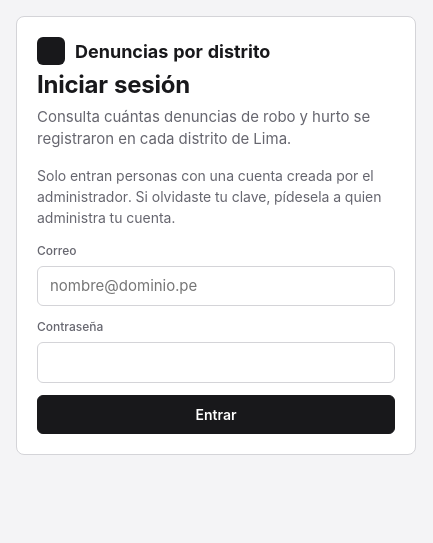
acceso › con credenciales malas muestra el mensaje de la API y no entra
Type "alguien@prueba.pe" into the field labelled "Correo" at (216, 286), box [37,266,395,306]
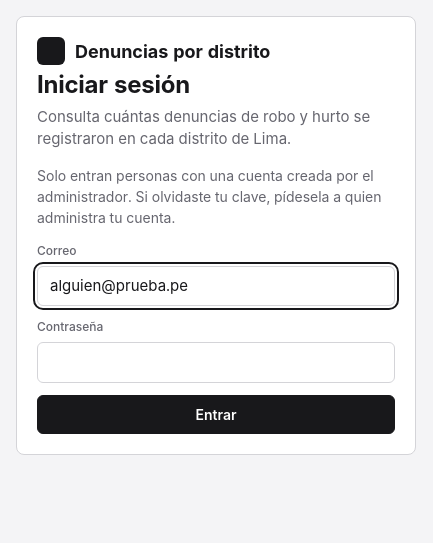
Type "clave-segura-123" into the password field labelled "Contraseña" at (216, 363), box [37,342,395,383]
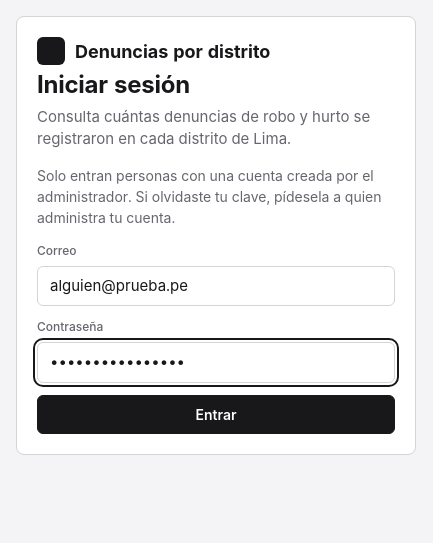
Click the button "Entrar" at (216, 414), box [37,395,395,434]
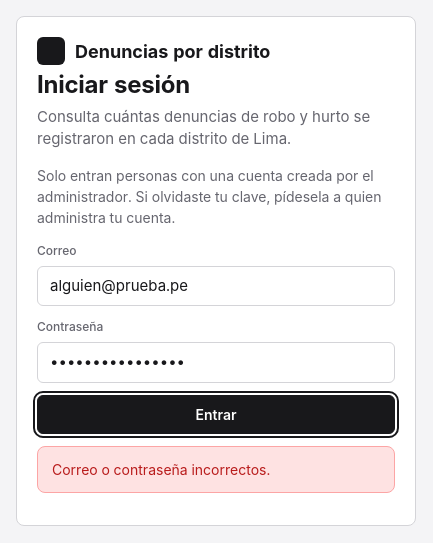
Now the message reads "Correo o contraseña incorrectos.", box [52,461,270,478]
